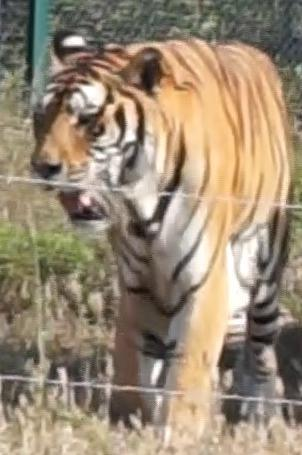tiger: (33, 30, 293, 433)
